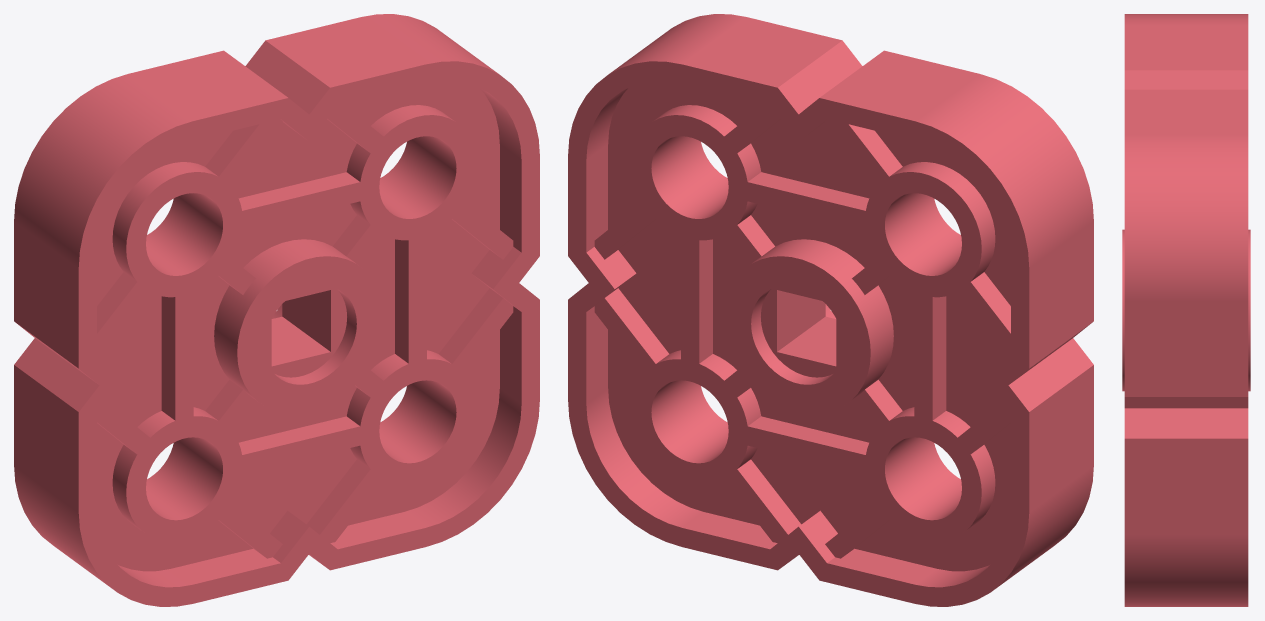
3 renders of one model, left to right at view 1: azimuth 30°, elevation 25°; view 2: azimuth 150°, elevation 25°; view 3: azimuth 270°, elevation 25°, orthographic. The views are drawn at different scales.
Parts seen in each view (by area): view 1: main_d22630; view 2: main_d22630; view 3: main_d22630.
Boxes of the visible parts, x1,y1,x2,y2 form: main_d22630: (14,14,539,606); main_d22630: (568,14,1093,606); main_d22630: (1122,14,1250,606).
Size of the model in its own units: 25.1 by 25.1 by 6.35.
